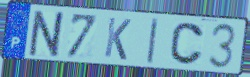3: (207, 22, 237, 71)
7: (67, 12, 100, 60)
C: (169, 21, 205, 67)
I: (145, 17, 160, 66)
K: (103, 16, 133, 62)
N: (26, 9, 68, 59)
